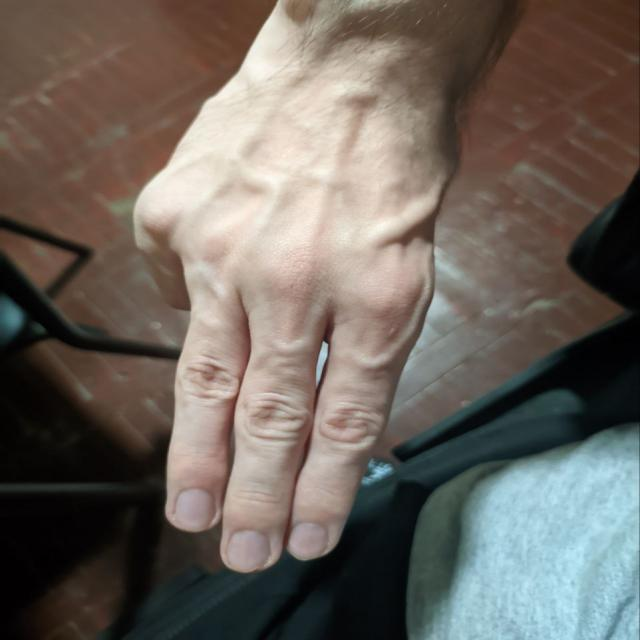t: (109, 72, 452, 575)
